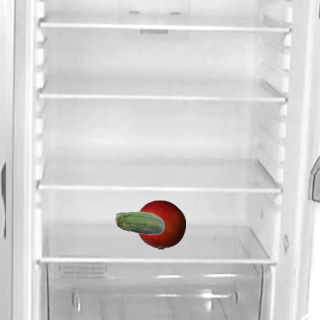Apple Braeburn: (135, 199, 185, 249)
Corn Husk: (114, 199, 164, 249)
